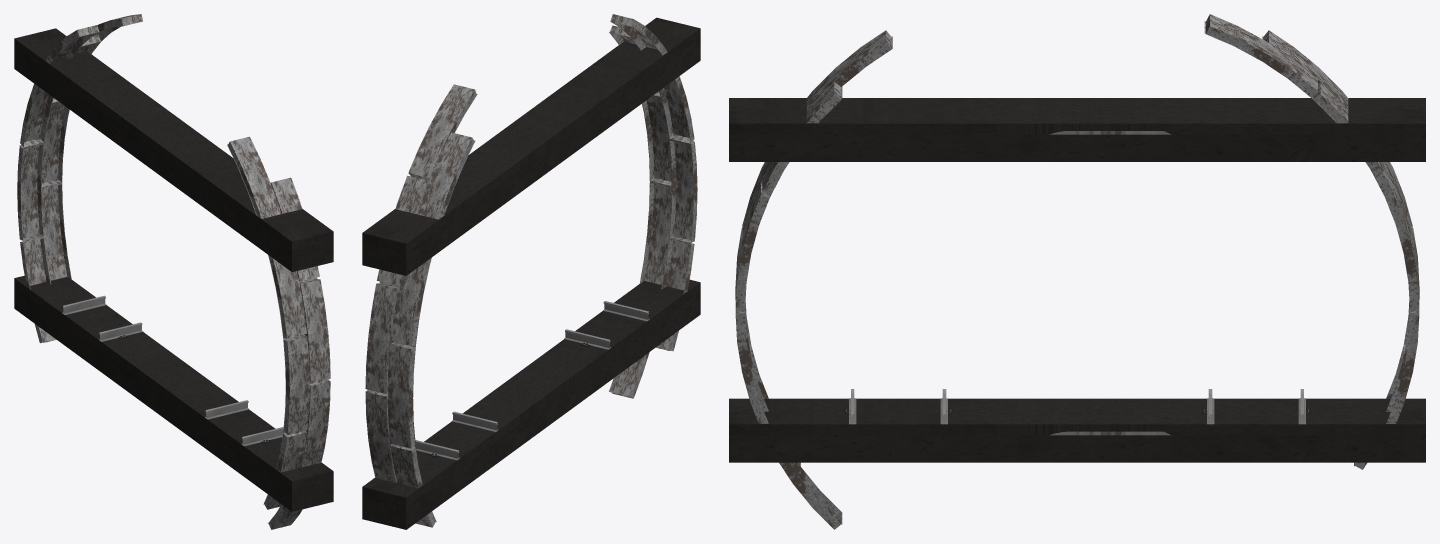
Rendered from tunnel 2way.fbx.
3 views of the same model, side by side, from view 1: azimuth 30°, elevation 25°; view 2: azimuth 150°, elevation 25°; view 3: azimuth 270°, elevation 25° (orthographic). The views are drawn at different scales.
Visible parts, largest first — view 1: tunnel 2way; view 2: tunnel 2way; view 3: tunnel 2way.
Boxes of the visible parts, box(x1,y1,x2,y2) form: tunnel 2way: box(14, 14, 333, 529); tunnel 2way: box(362, 14, 700, 529); tunnel 2way: box(729, 14, 1425, 529).
Bounding box in the file's own units: 1155 × 100 × 921.
